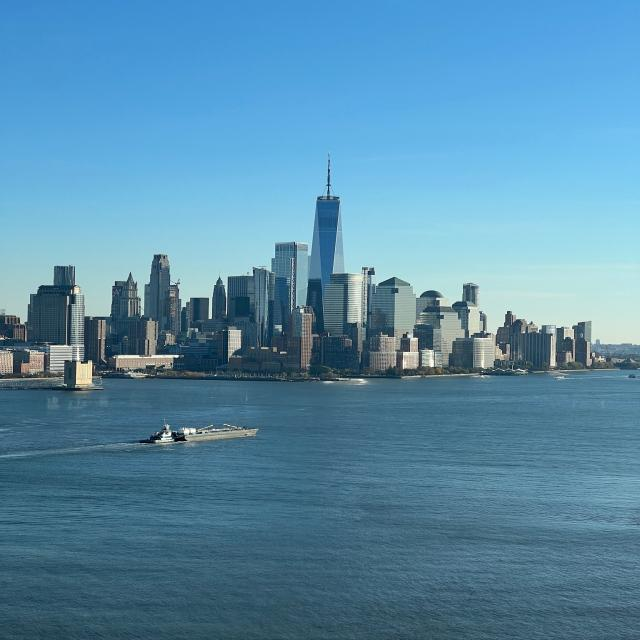WTC: (308, 154, 344, 272)
